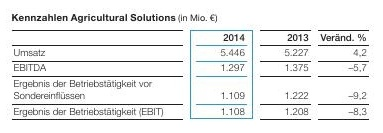table: (0, 0, 383, 133)
